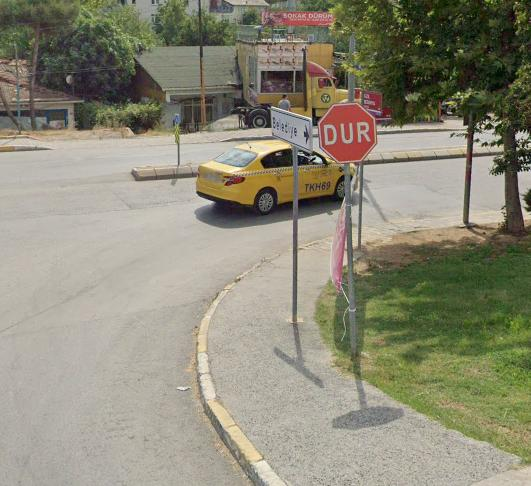stop: (318, 105, 375, 162)
